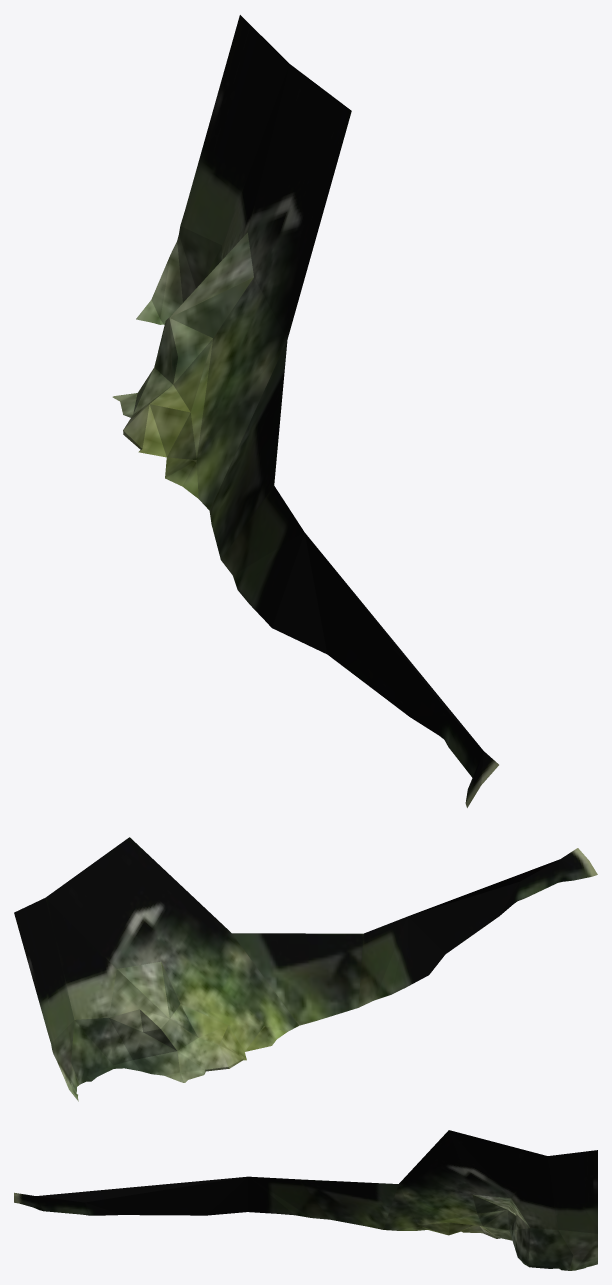
The picture shows the model from 3 angles, top to bottom: view 1: azimuth 30°, elevation 25°; view 2: azimuth 150°, elevation 25°; view 3: azimuth 270°, elevation 25°; orthographic projection. The views are drawn at different scales.
Size of the model in its own units: 16.65 by 13.43 by 47.19.
Materials: 1 (1 with a texture image).
